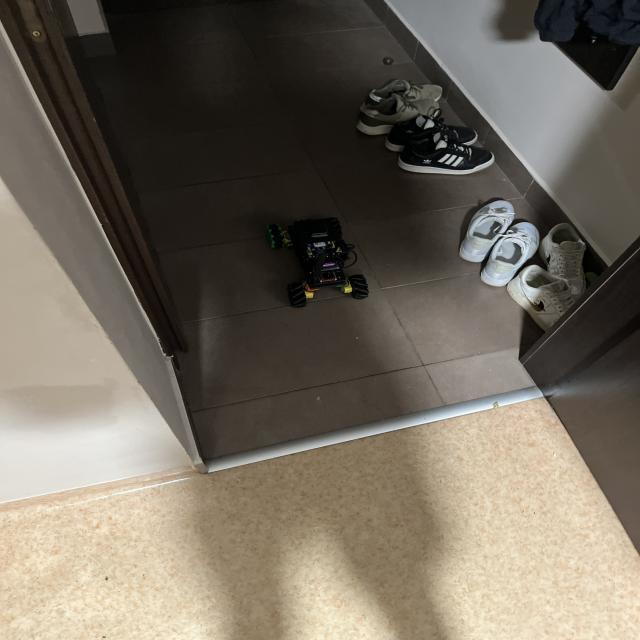robot: (266, 217, 369, 307)
